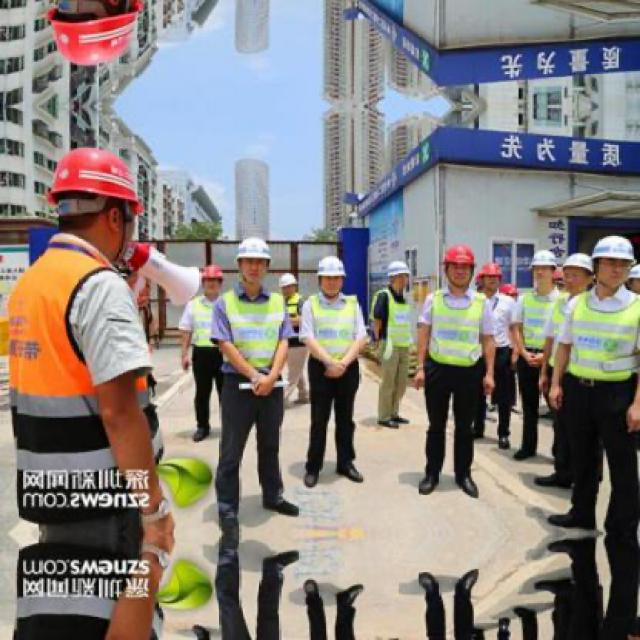helmet: (51, 144, 143, 258), (49, 0, 143, 71), (589, 234, 634, 287), (237, 233, 274, 285), (442, 240, 478, 287), (316, 255, 350, 296), (561, 252, 594, 292), (384, 254, 414, 294), (534, 248, 563, 288), (200, 260, 226, 298), (478, 260, 504, 294), (278, 270, 302, 298)
